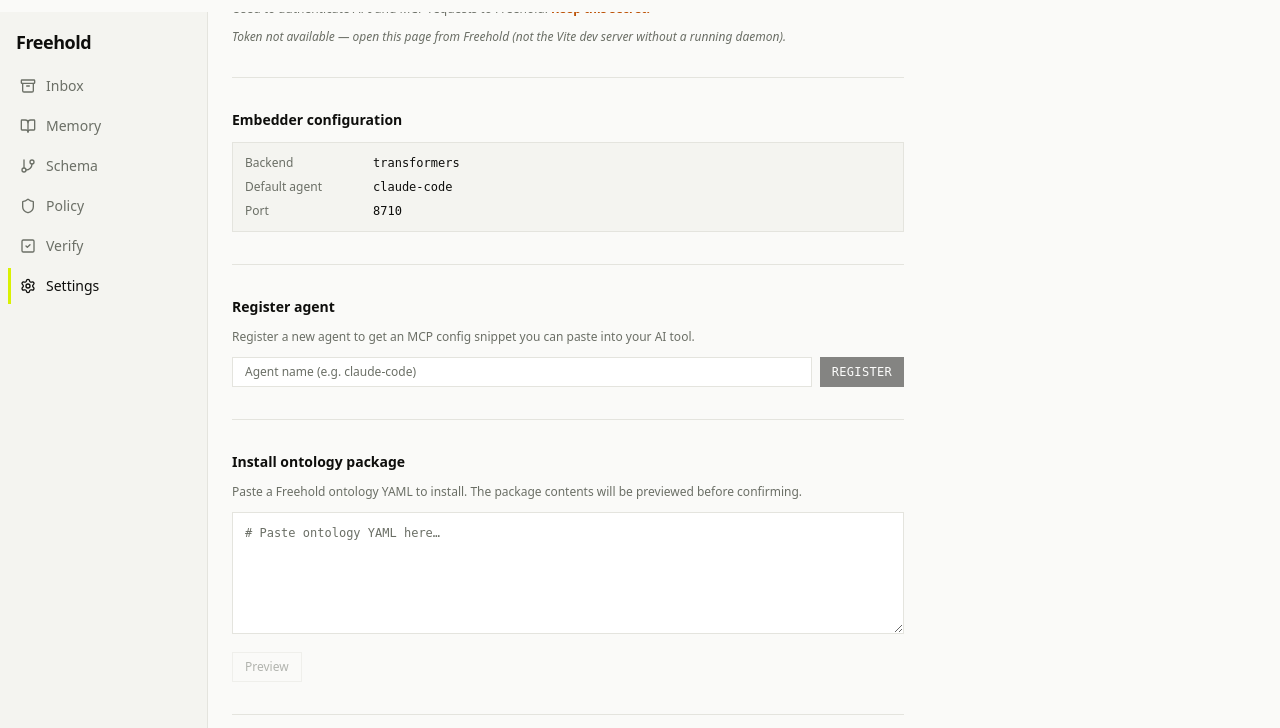
Test: Settings › register agent flow: typing name and submitting shows MCP snippet
(page scrolled)
Type "my-agent" into the field with test id "agent-name-input" at (522, 372), box 232,356 -> 812,386
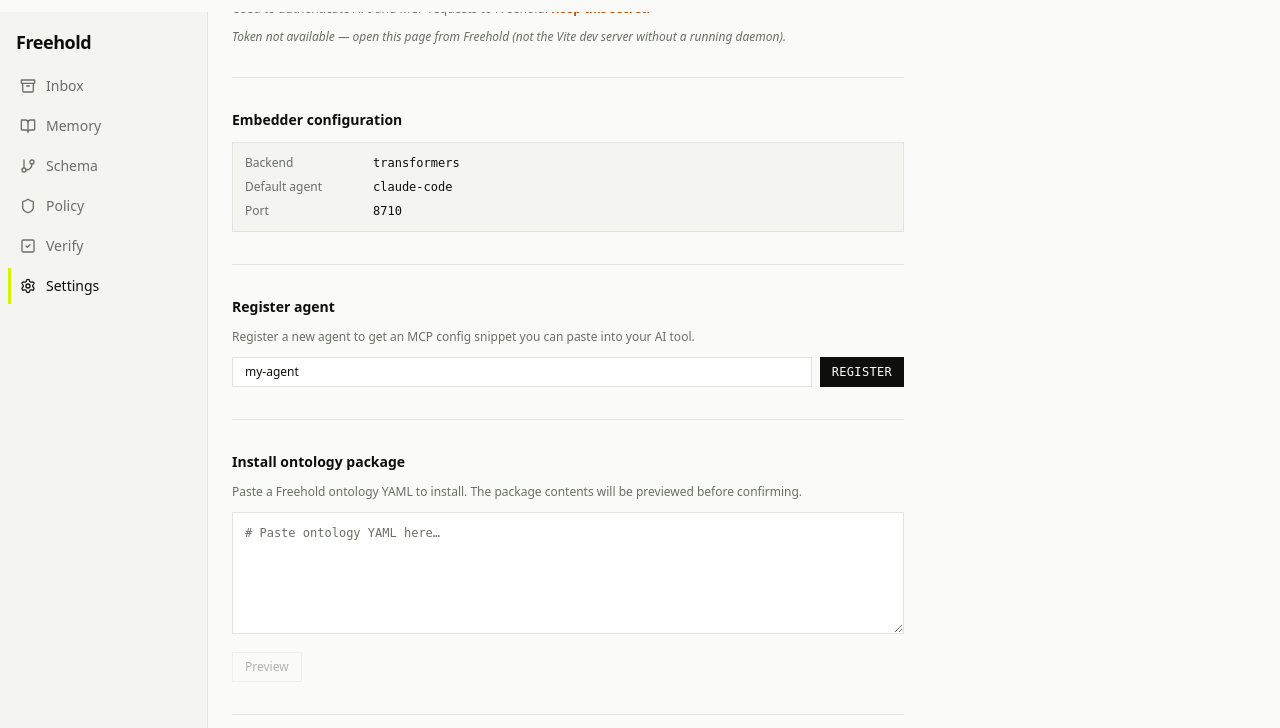
Click the button with test id "register-agent-btn" at (862, 372), box 820,356 -> 904,386
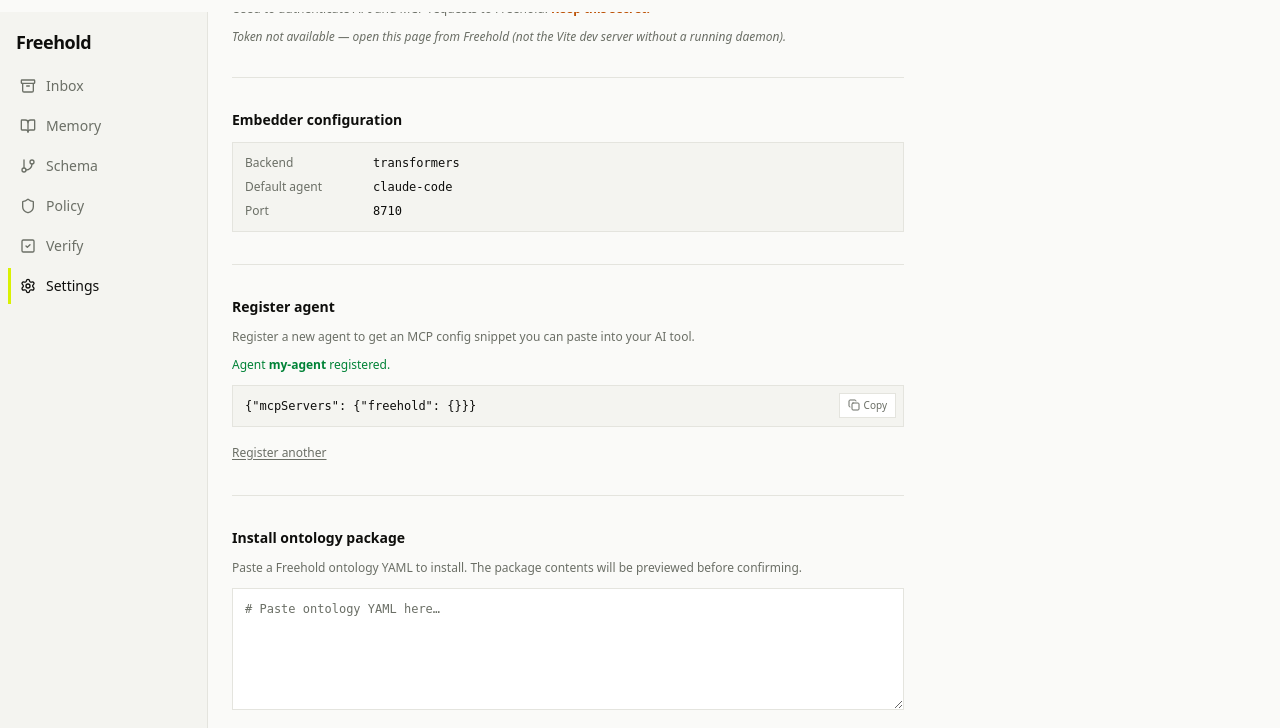
Now the text "{\"mcpServers\": {\"freehold\": {}}}" is shown, box 232,384 -> 904,426
Now the text with test id "mcp-snippet" shows "freehold", box 245,398 -> 476,412
